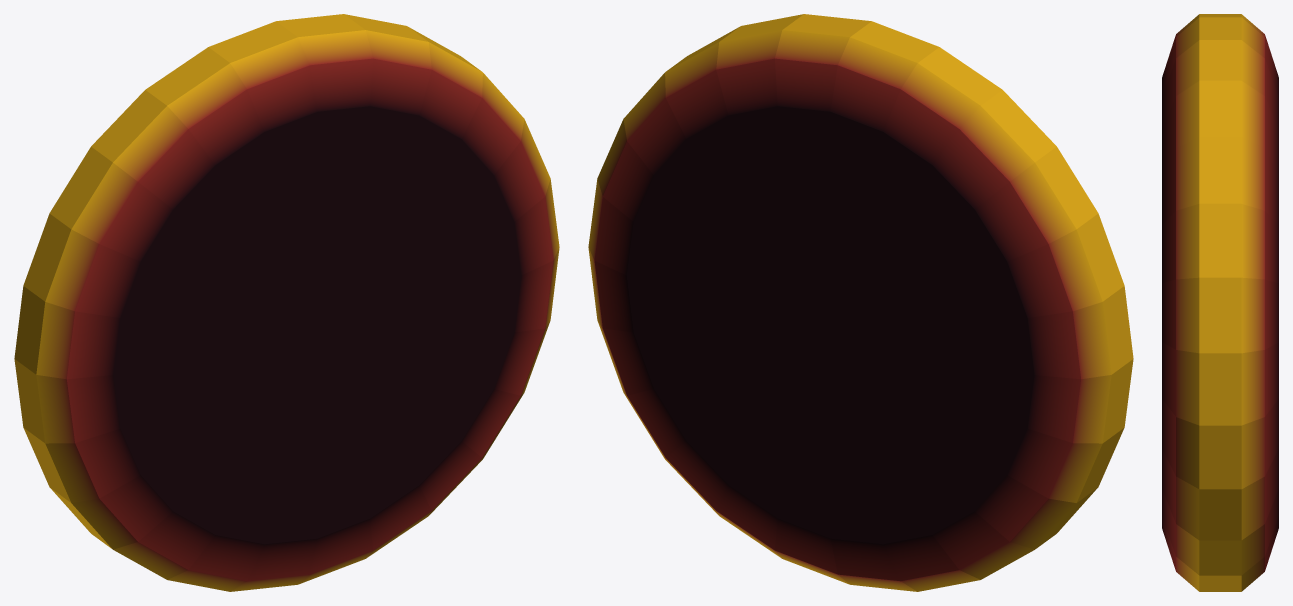
Rendered from Numeral.fbx.
The picture shows the model from 3 angles, left to right: view 1: azimuth 30°, elevation 25°; view 2: azimuth 150°, elevation 25°; view 3: azimuth 270°, elevation 25°; orthographic projection. The views are drawn at different scales.
Visible parts, largest first — view 1: Numeral; view 2: Numeral; view 3: Numeral.
Part boxes in pixels (left/top/right/bottom): Numeral: left=14, top=14, right=559, bottom=591; Numeral: left=588, top=14, right=1133, bottom=591; Numeral: left=1162, top=14, right=1278, bottom=591.
Bounding box in the file's own units: 0.744 × 0.744 × 0.15.
